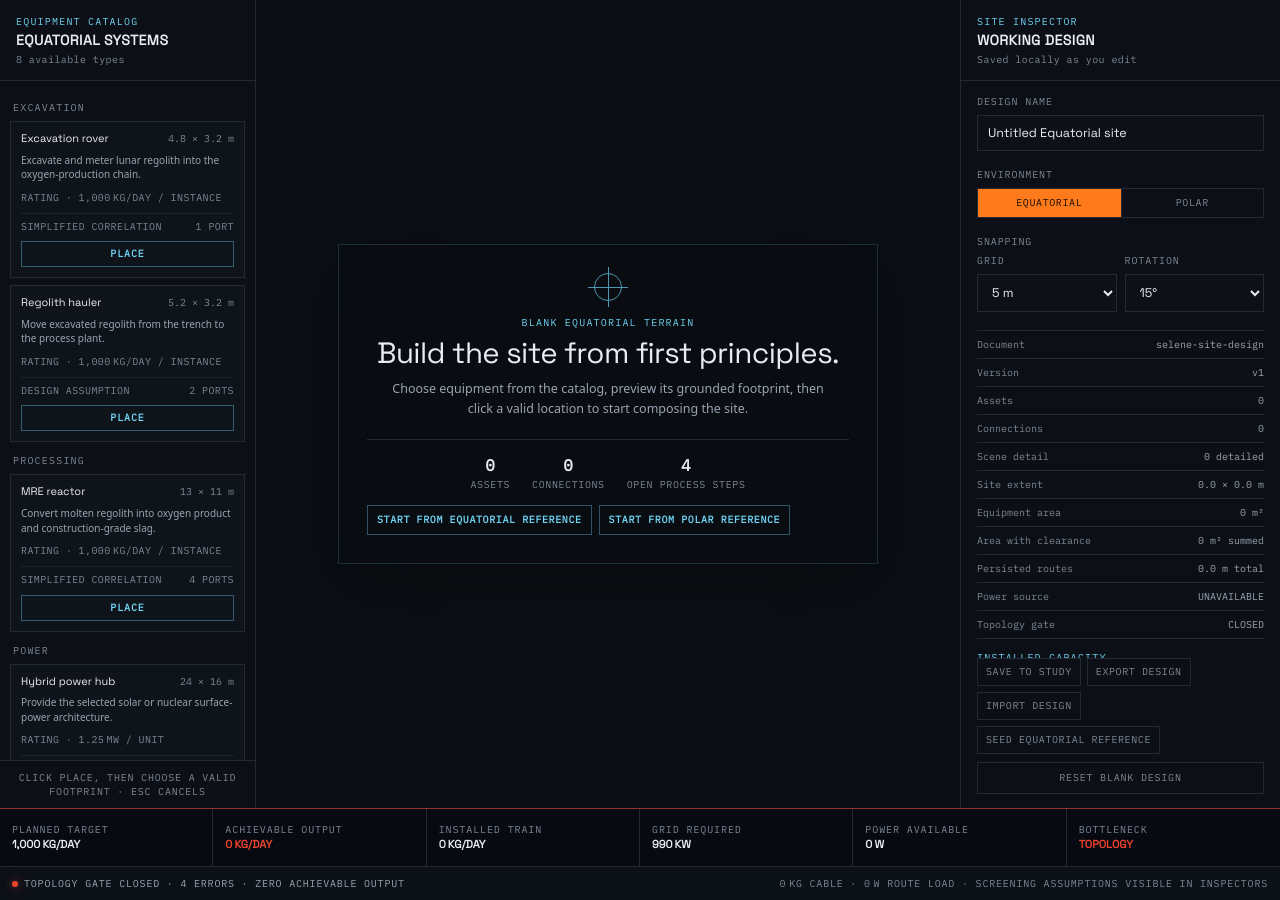
Test: custom site workspace › edits the persisted name and switches the registry environment
The image size is (1280, 900).
Replace the text in the field labelled "DESIGN NAME" with "Crater rim concept" at coordinates (1120, 133), box x1=977 y1=115 x2=1264 y2=151
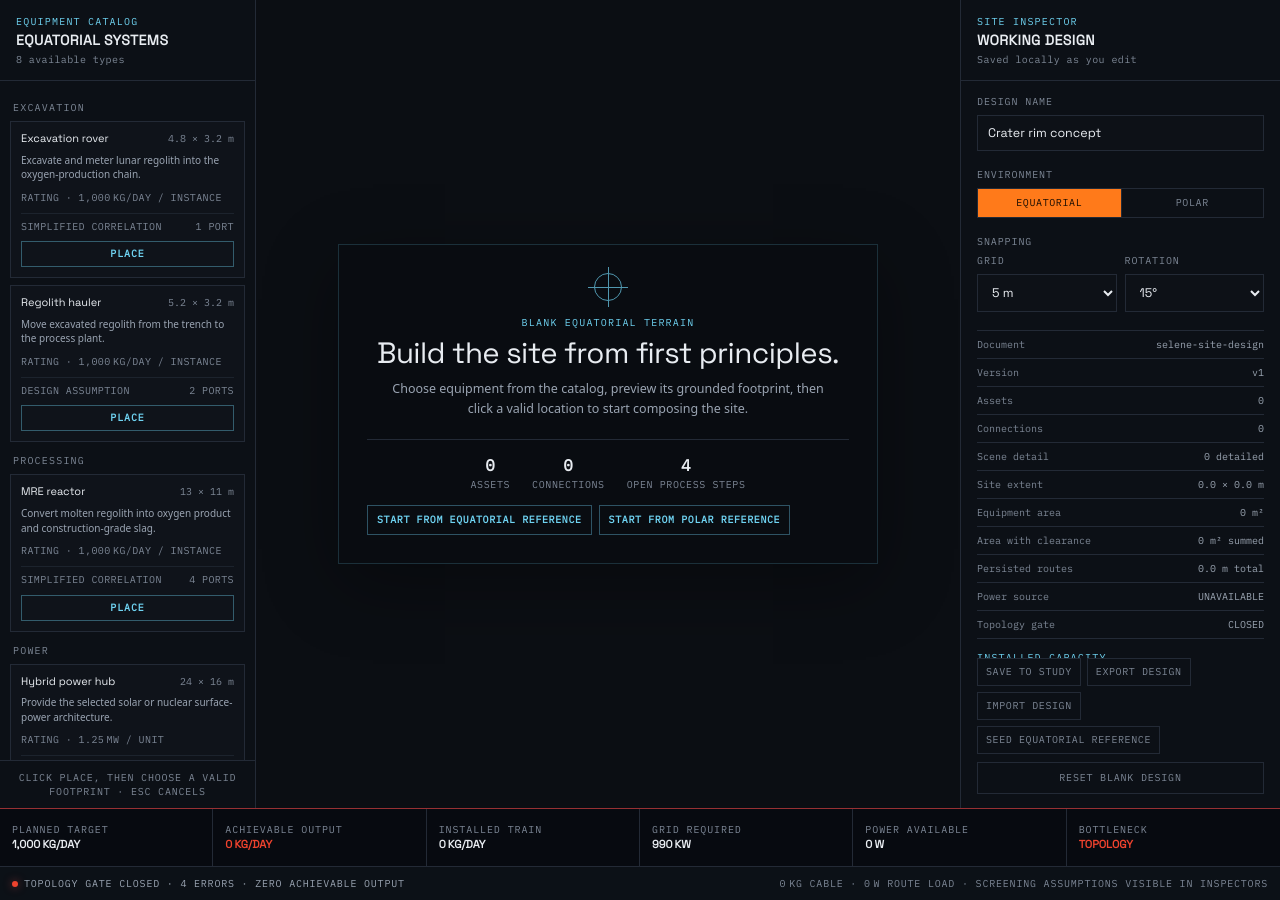
Click the button "POLAR" at coordinates (1192, 203), box x1=1120 y1=189 x2=1263 y2=217
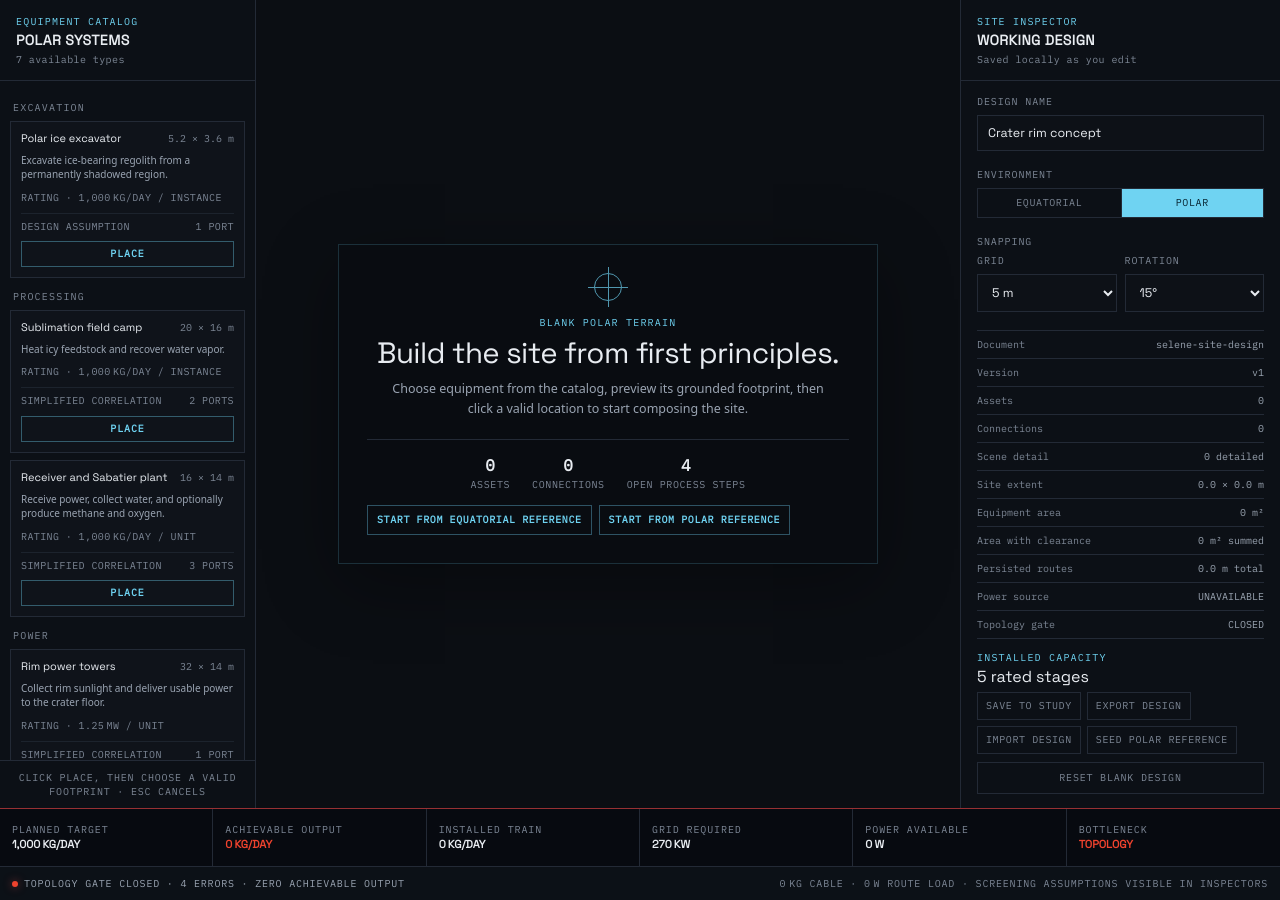
expect the text "7 available types" is shown: met, box x1=16 y1=53 x2=125 y2=66
expect the text "Rim power towers" is shown: met, box x1=21 y1=660 x2=116 y2=674
